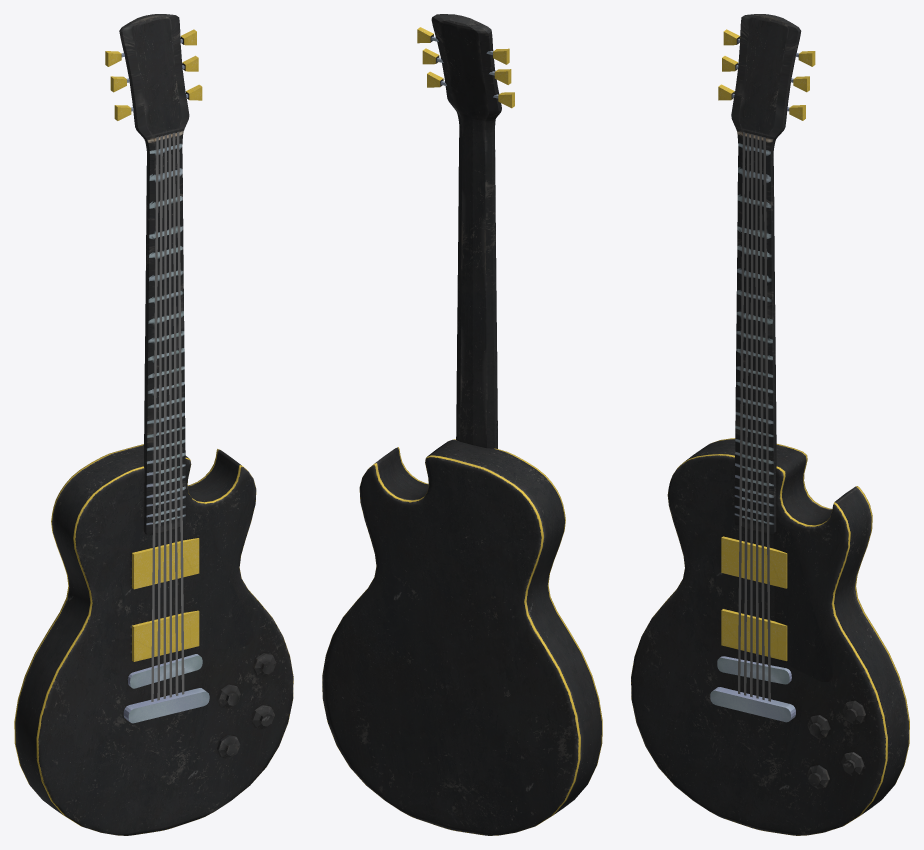
File: guitar.fbx
3 renders of one model, left to right at view 1: azimuth 30°, elevation 25°; view 2: azimuth 150°, elevation 25°; view 3: azimuth 330°, elevation 25°, orthographic.
Visible parts, largest first — view 1: Vert, Plane, Plane.002, Plane.001, Cube.001, Cube.002, Cylinder.001, Cube.003, Cube, Cube.004; view 2: Vert, Plane, Cube; view 3: Vert, Plane, Plane.002, Plane.001, Cube.002, Cube.001, Cylinder.001, Cube.003, Cube, Cube.004.
Part boxes in pixels (left/top/right/bottom): Vert: left=14, top=444, right=293, bottom=835; Plane: left=119, top=14, right=189, bottom=534; Plane.002: left=151, top=132, right=184, bottom=701; Plane.001: left=183, top=508, right=253, bottom=650; Cube.001: left=132, top=538, right=199, bottom=589; Cube.002: left=132, top=610, right=199, bottom=661; Cylinder.001: left=217, top=653, right=276, bottom=758; Cube.003: left=123, top=688, right=209, bottom=723; Cube: left=105, top=29, right=202, bottom=120; Cube.004: left=127, top=654, right=202, bottom=688; Vert: left=322, top=439, right=602, bottom=835; Plane: left=431, top=14, right=501, bottom=448; Cube: left=417, top=27, right=514, bottom=108; Vert: left=631, top=438, right=909, bottom=835; Plane: left=731, top=14, right=801, bottom=533; Plane.002: left=738, top=132, right=770, bottom=701; Plane.001: left=774, top=517, right=832, bottom=681; Cube.002: left=721, top=609, right=787, bottom=661; Cube.001: left=721, top=536, right=787, bottom=588; Cylinder.001: left=807, top=700, right=865, bottom=788; Cube.003: left=710, top=687, right=795, bottom=722; Cube: left=718, top=29, right=815, bottom=120; Cube.004: left=717, top=656, right=791, bottom=684.
Size of the model in its own units: 157 by 469 by 32.97.
2 materials, 1 textured.
